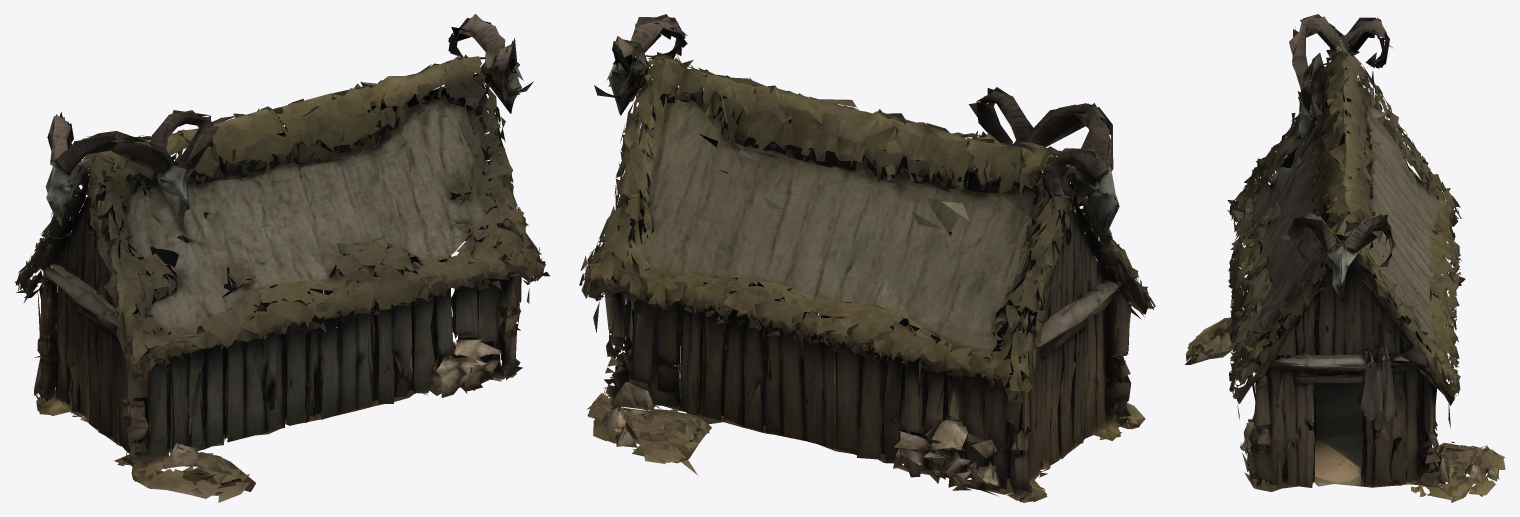
File: goblin_hut.glb
The picture shows the model from 3 angles, left to right: view 1: azimuth 30°, elevation 25°; view 2: azimuth 150°, elevation 25°; view 3: azimuth 270°, elevation 25°; orthographic projection. The views are drawn at different scales.
Parts seen in each view (by area): view 1: goblin_hut; view 2: goblin_hut; view 3: goblin_hut.
Part boxes in pixels (x1,y1,x2,y2): goblin_hut: [15, 14, 549, 502]; goblin_hut: [579, 14, 1155, 502]; goblin_hut: [1185, 14, 1505, 502].
Bounding box in the file's own units: 5.24 × 3.51 × 3.25.
Materials: 1 (1 with a texture image).
